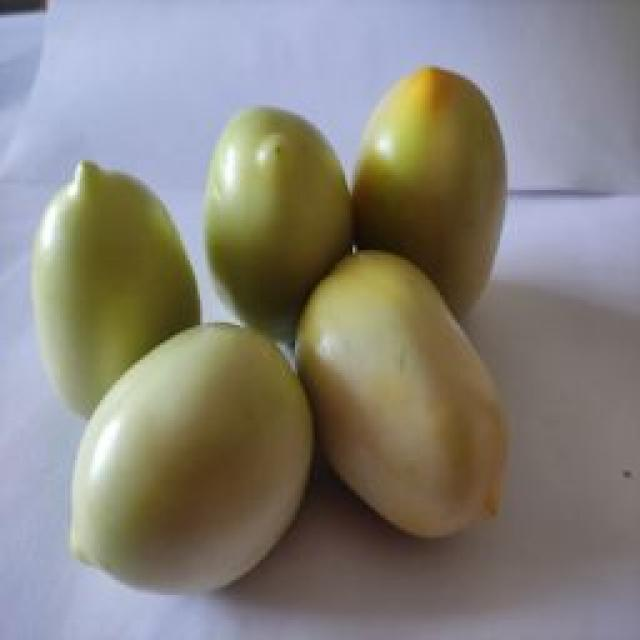tomato: (68, 322, 312, 595), (292, 251, 504, 535), (32, 160, 200, 413), (350, 69, 508, 317), (202, 106, 352, 336)
